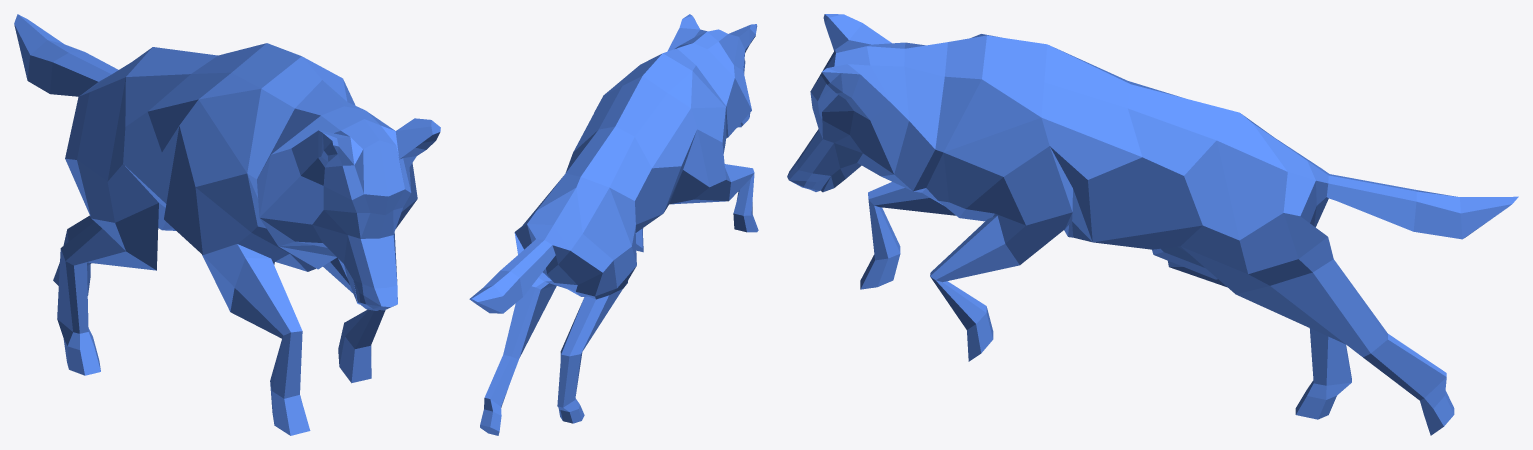
The model's file is wolfRunA_v009001.obj.
The picture shows the model from 3 angles, left to right: view 1: azimuth 30°, elevation 25°; view 2: azimuth 150°, elevation 25°; view 3: azimuth 270°, elevation 25°; orthographic projection. The views are drawn at different scales.
Parts seen in each view (by area): view 1: comp_wolf_rig:wolf_body comp_wolf_rig:wolf; view 2: comp_wolf_rig:wolf_body comp_wolf_rig:wolf; view 3: comp_wolf_rig:wolf_body comp_wolf_rig:wolf.
Boxes of the visible parts, x1,y1,x2,y2 form: comp_wolf_rig:wolf_body comp_wolf_rig:wolf: [14, 14, 440, 435]; comp_wolf_rig:wolf_body comp_wolf_rig:wolf: [469, 14, 758, 435]; comp_wolf_rig:wolf_body comp_wolf_rig:wolf: [787, 14, 1518, 435].
Size of the model in its own units: 33.98 by 77.91 by 131.
